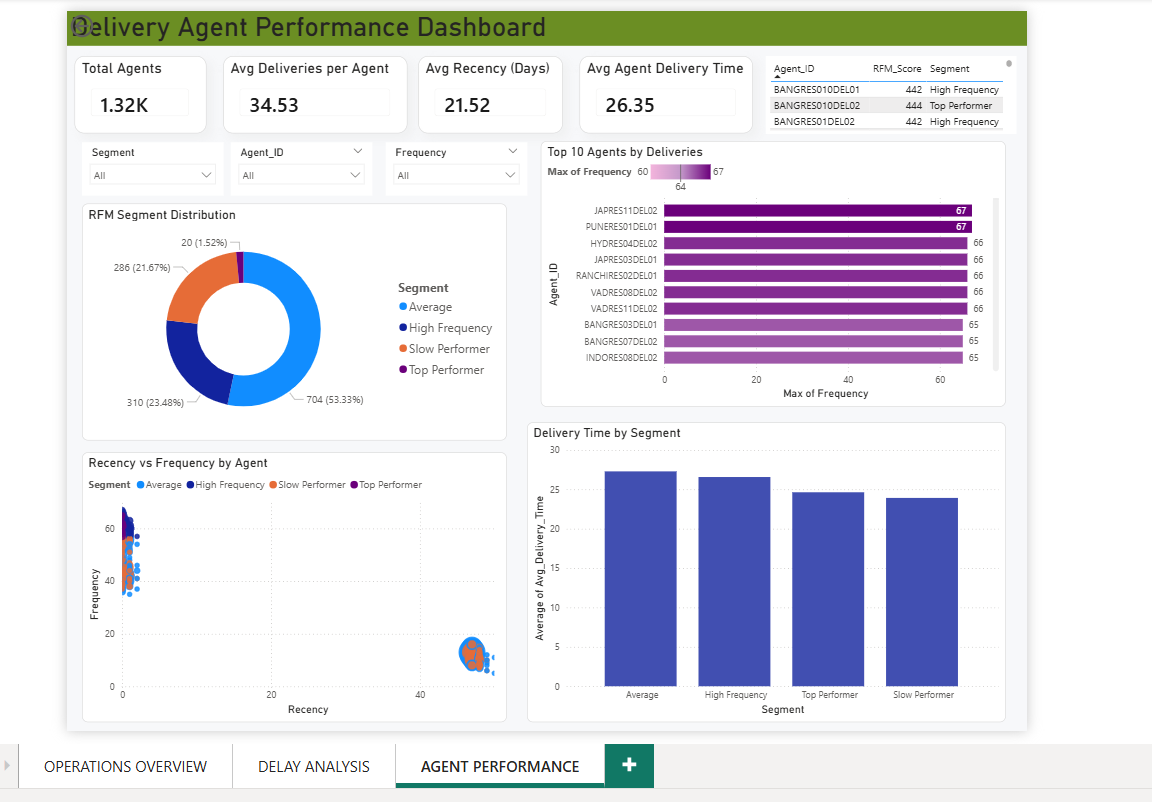

Layout of this report page (visuals, bound fields, positions):
{"tool":"powerbi","page":{"name":"AGENT PERFORMANCE","canvas":[1280,960],"ordinal":2},"visuals":[{"type":"textbox","title":"Delivery Agent Performance Dashboard","box":[0,0,1280,46.7],"z":0},{"type":"cardVisual","title":"Total Agents","fields":{"Data":["Count(rfm_data.Agent_ID)"]},"box":[10.3,59.8,175.9,103.4],"z":1000},{"type":"cardVisual","title":"Avg Agent Delivery Time","fields":{"Data":["Avg(rfm_data.Avg_Delivery_Time)"]},"box":[683.9,59.8,231,103.4],"z":2000},{"type":"cardVisual","title":"Avg Recency (Days)","fields":{"Data":["Avg(rfm_data.Recency)"]},"box":[467.8,59.8,193.1,103.4],"z":3000},{"type":"cardVisual","title":"Avg Deliveries per Agent","fields":{"Data":["Avg(rfm_data.Frequency)"]},"box":[208,59.8,246,103.4],"z":4000},{"type":"donutChart","title":"RFM Segment Distribution","fields":{"Y":["CountNonNull(rfm_data.Agent_ID)"],"Category":["rfm_data.Segment"]},"box":[20,256,566,316],"z":5000},{"type":"clusteredBarChart","title":"Top 10 Agents by Deliveries","fields":{"Category":["rfm_data.Agent_ID"],"Y":["Max(rfm_data.Frequency)"]},"box":[632,174,620,354],"z":6000},{"type":"scatterChart","title":"Recency vs Frequency by Agent","fields":{"X":["rfm_data.Recency"],"Y":["rfm_data.Frequency"],"Size":["CountNonNull(rfm_data.Agent_ID)"],"Series":["rfm_data.Segment"]},"box":[20,588,566,360],"z":7000},{"type":"clusteredColumnChart","title":"Delivery Time by Segment","fields":{"Category":["rfm_data.Segment"],"Y":["Avg(rfm_data.Avg_Delivery_Time)"]},"box":[614,548,638,400],"z":8000},{"type":"slicer","fields":{"Values":["rfm_data.Segment"]},"box":[20,174.3,188.6,71.4],"z":9000},{"type":"slicer","fields":{"Values":["rfm_data.Frequency"]},"box":[425.7,174.3,188.6,71.4],"z":10000},{"type":"slicer","fields":{"Values":["rfm_data.Agent_ID"]},"box":[218.6,174.3,188.6,71.4],"z":11000},{"type":"tableEx","fields":{"Values":["rfm_data.Agent_ID","rfm_data.RFM_Score","rfm_data.Segment"]},"box":[932,60,334,104],"z":12000},{"type":"actionButton","box":[0,0,100,40],"z":13000}]}

Visuals, with their boxes on the page's 1280x960 design canvas (x1, y1, x2, y2). These are canvas units, not pixel positions in the 1152x802 screenshot, which may show the page scaled, cropped or inside an application window:
"Delivery Agent Performance Dashboard" textbox: rect(0, 0, 1280, 47)
"Total Agents" cardVisual: rect(10, 60, 186, 163)
"Avg Agent Delivery Time" cardVisual: rect(684, 60, 915, 163)
"Avg Recency (Days)" cardVisual: rect(468, 60, 661, 163)
"Avg Deliveries per Agent" cardVisual: rect(208, 60, 454, 163)
"RFM Segment Distribution" donutChart: rect(20, 256, 586, 572)
"Top 10 Agents by Deliveries" clusteredBarChart: rect(632, 174, 1252, 528)
"Recency vs Frequency by Agent" scatterChart: rect(20, 588, 586, 948)
"Delivery Time by Segment" clusteredColumnChart: rect(614, 548, 1252, 948)
slicer - rfm_data.Segment: rect(20, 174, 209, 246)
slicer - rfm_data.Frequency: rect(426, 174, 614, 246)
slicer - rfm_data.Agent_ID: rect(219, 174, 407, 246)
tableEx - rfm_data.Agent_ID x rfm_data.RFM_Score: rect(932, 60, 1266, 164)
actionButton: rect(0, 0, 100, 40)
